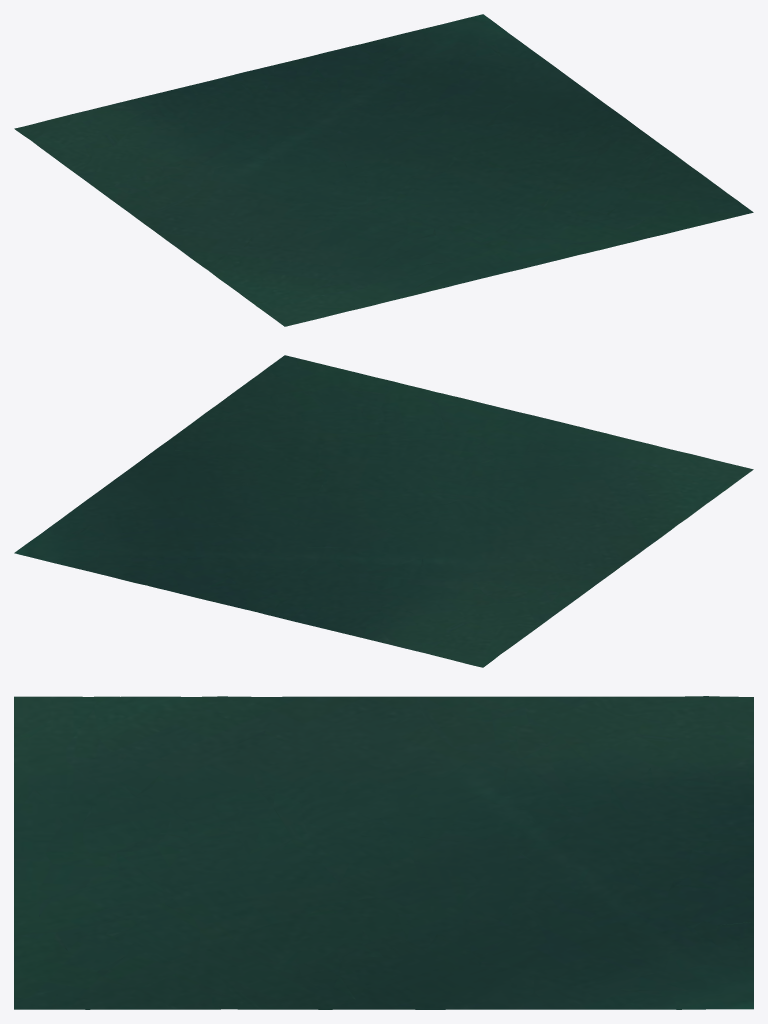
3 views of the same model, one above another, from view 1: azimuth 30°, elevation 25°; view 2: azimuth 150°, elevation 25°; view 3: azimuth 270°, elevation 25° (orthographic). The views are drawn at different scales.
Bounding box in the file's own units: 418 × 0.876 × 418.
3 materials, 3 textured.
